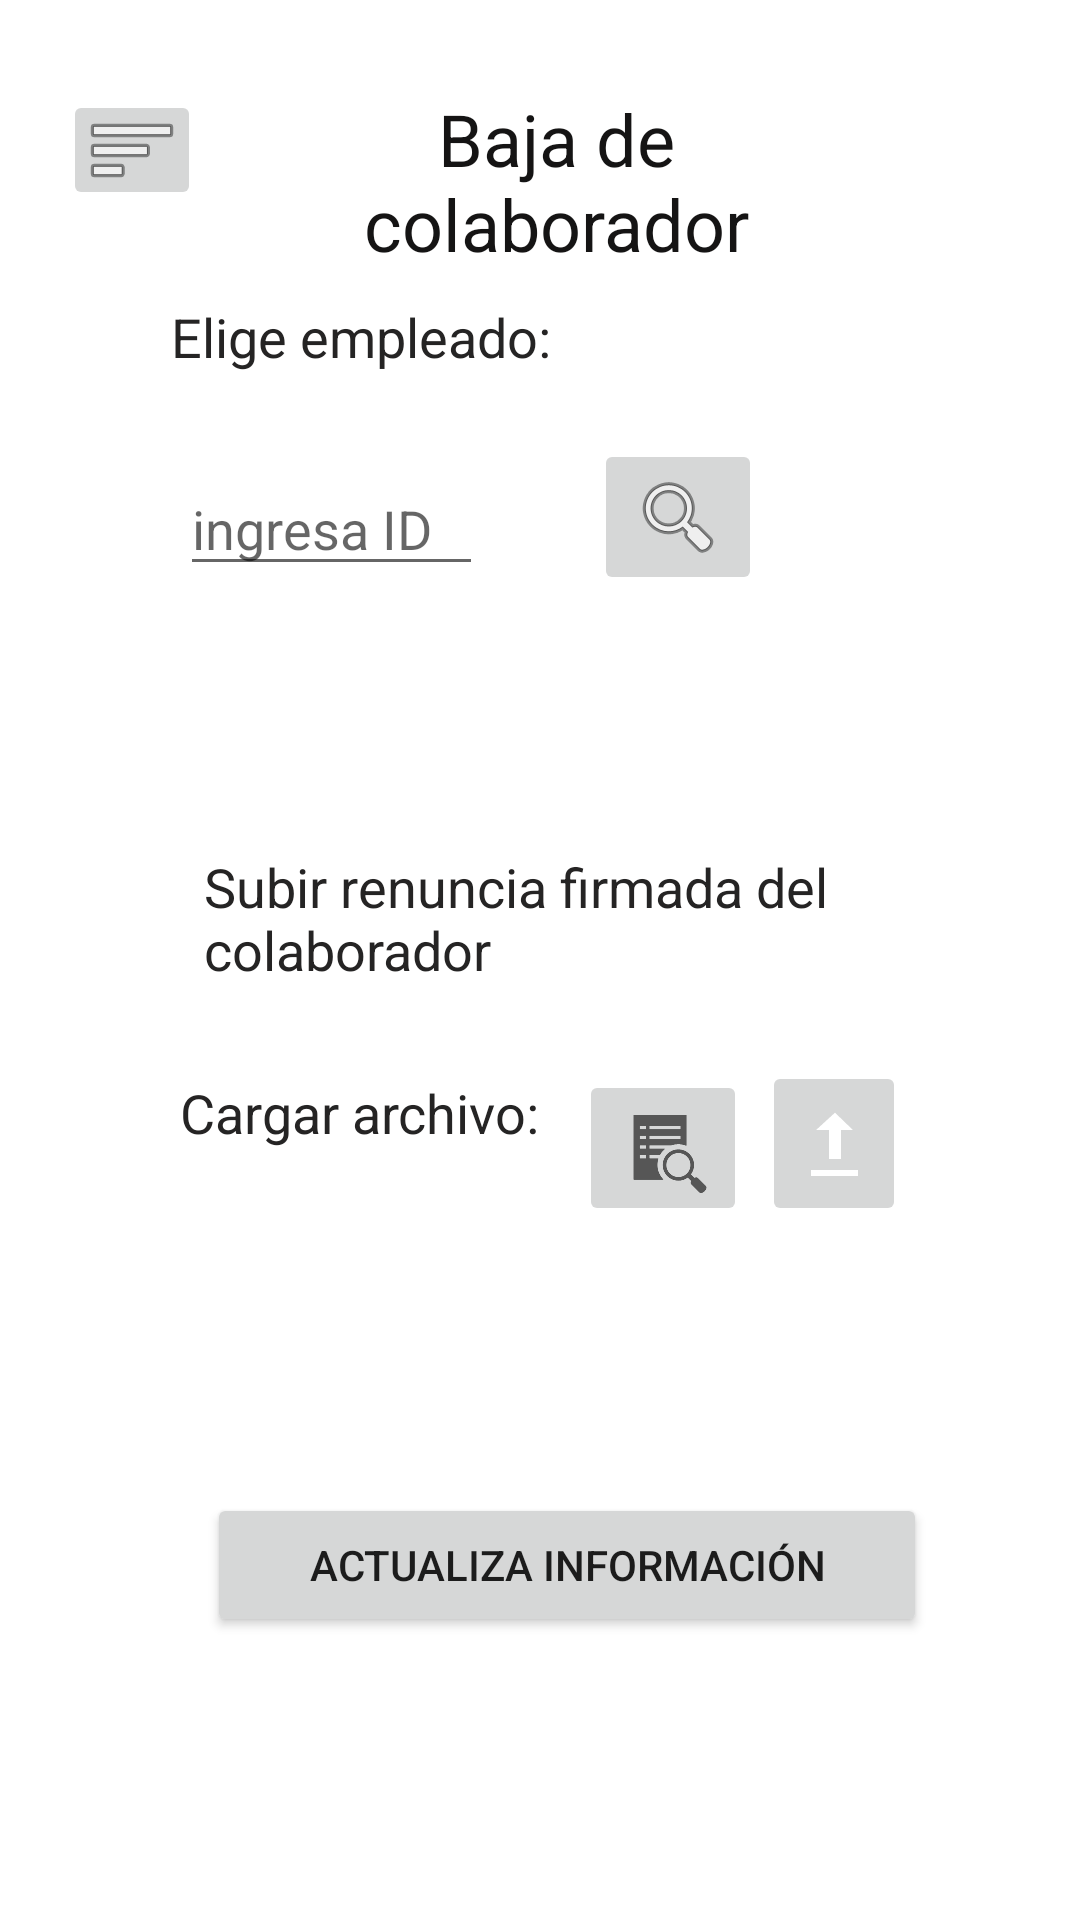

Where to tap for icons on this 1080x1920 app screen, as (x,y):
search: (678,517)
sort by size: (132,150)
upload: (834,1143)
